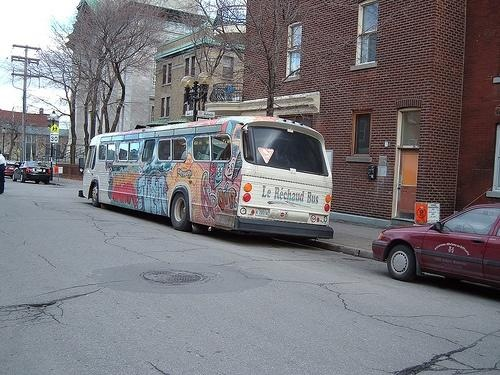bus: (80, 114, 342, 241)
car: (372, 205, 500, 298), (14, 159, 53, 185)
